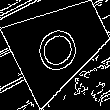O_NE: (31, 13, 89, 75)
